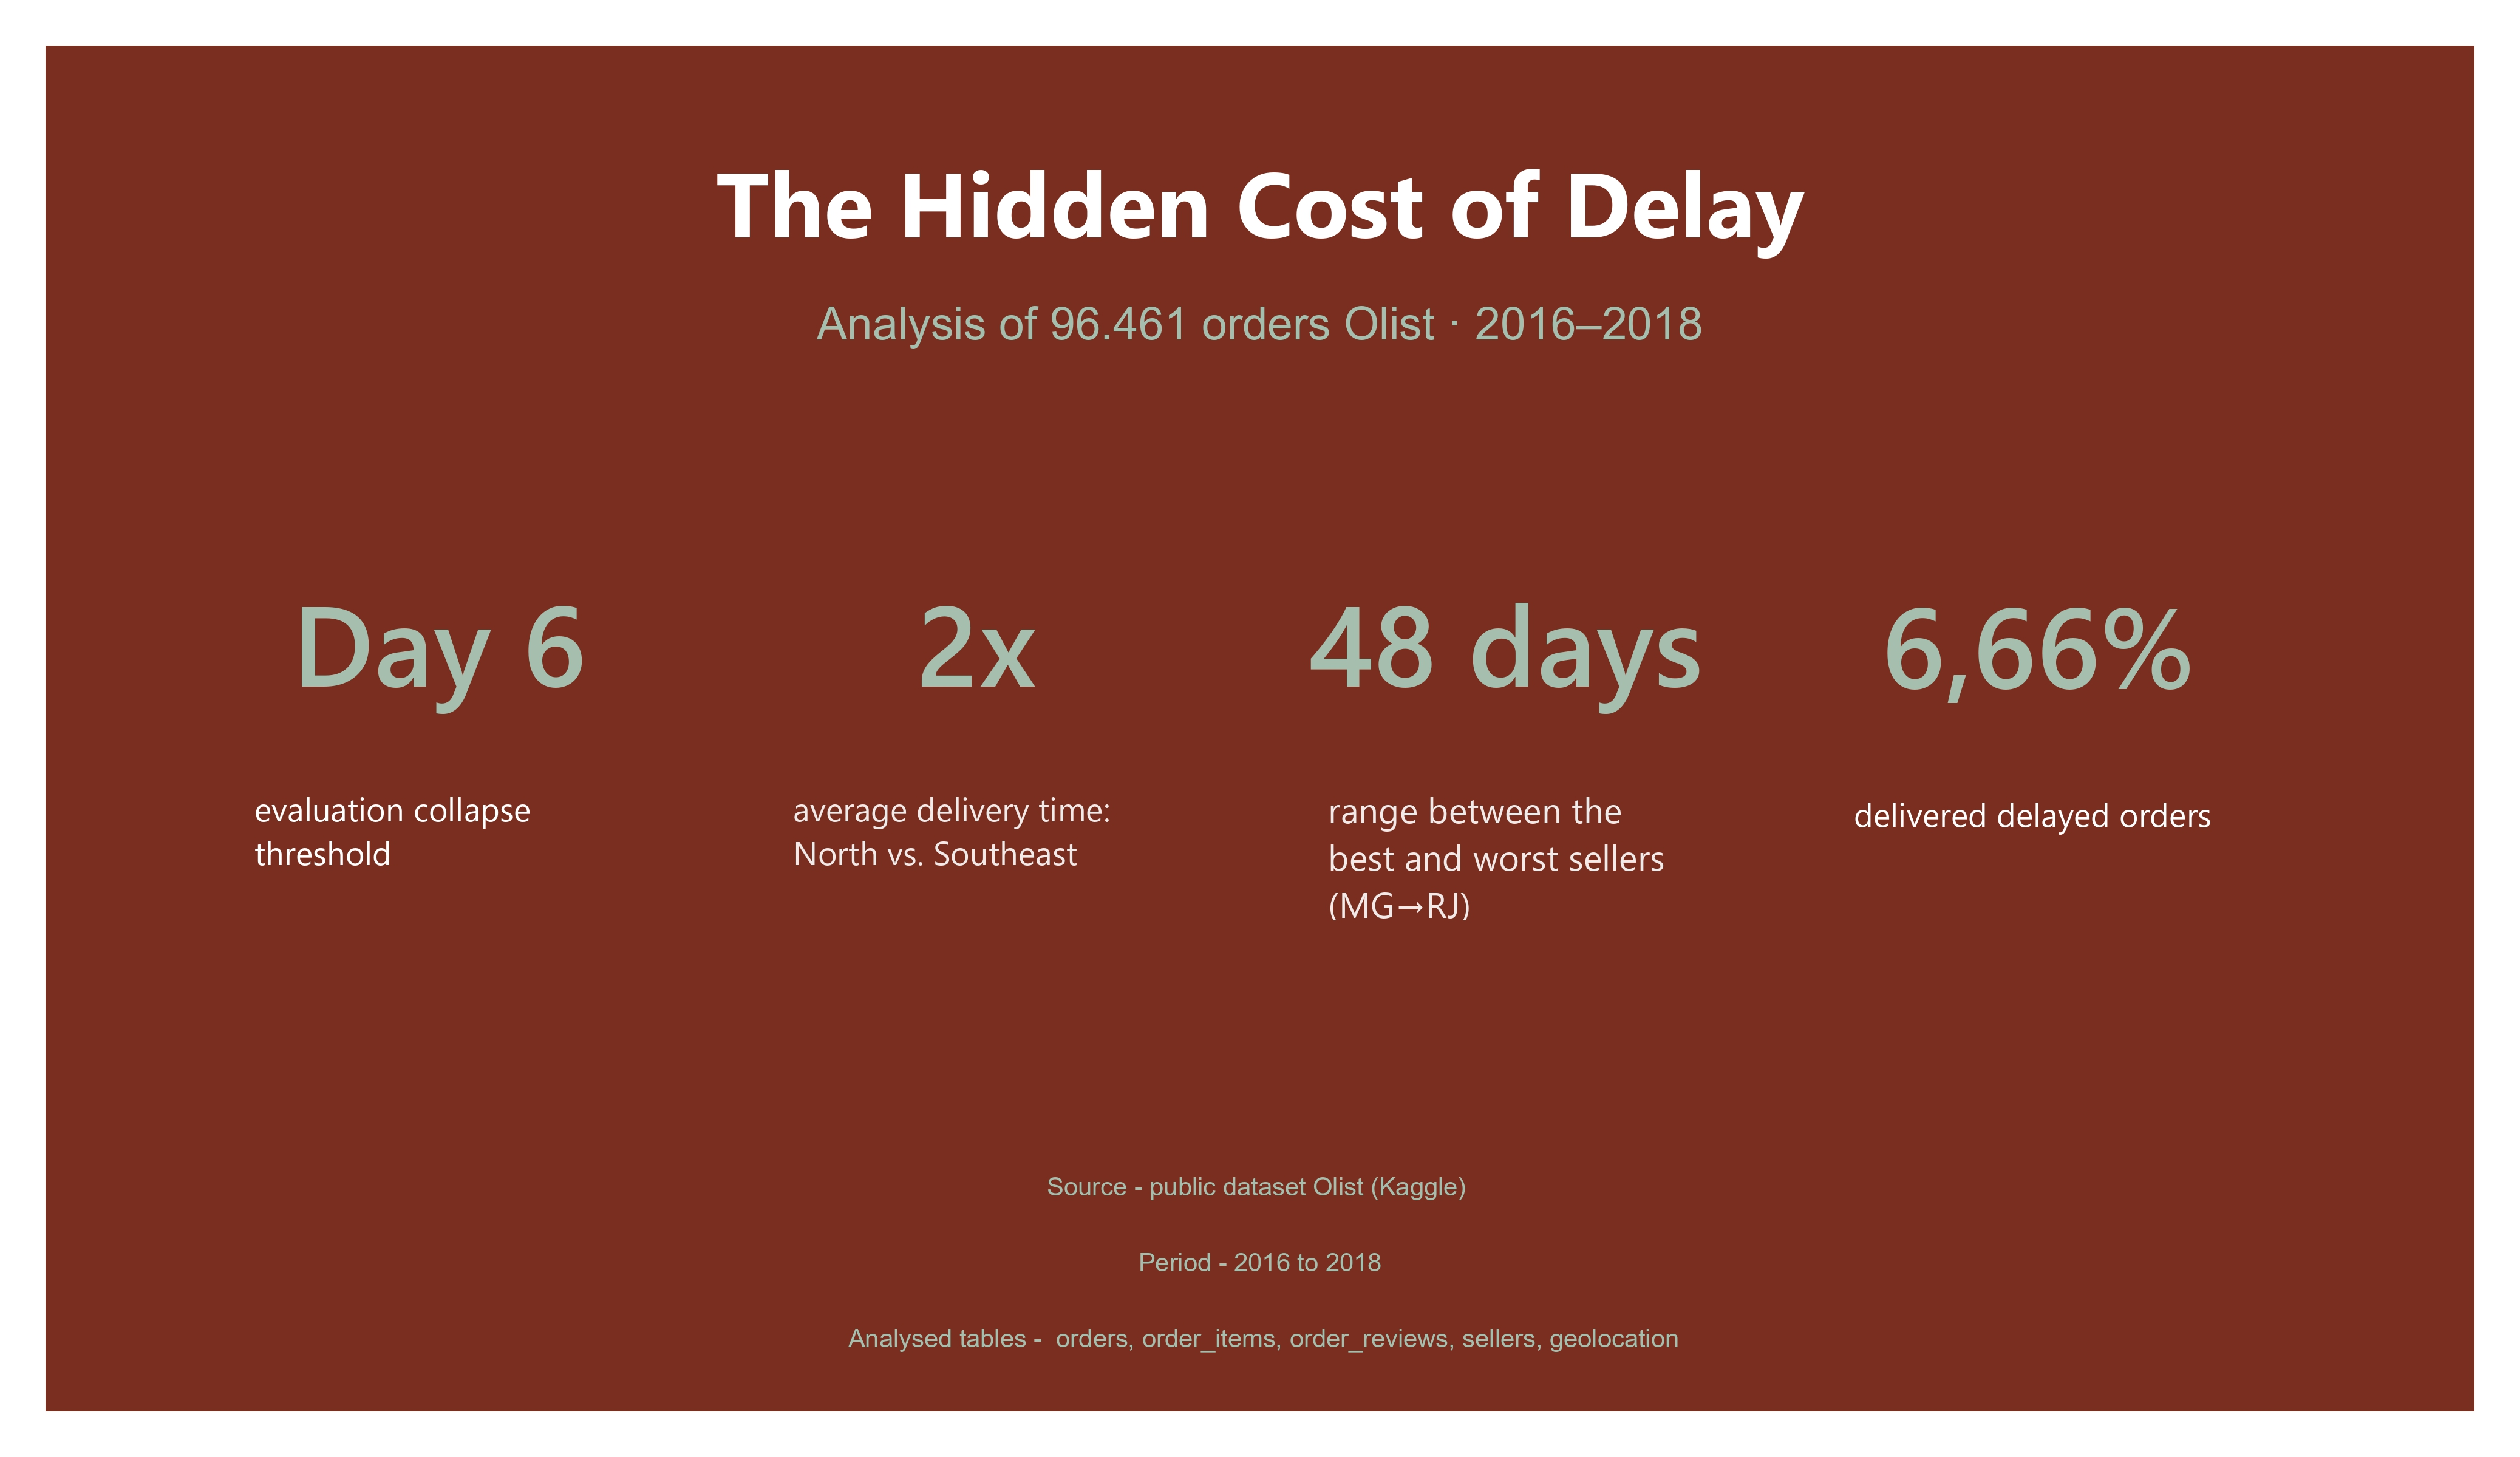

What the dashboard file says about the page in this screenshot:
{"tool":"powerbi","page":{"name":"Executive Summary","canvas":[1280,720],"ordinal":0},"visuals":[{"type":"textbox","box":[324.6,23.6,630.2,164.9],"z":0},{"type":"cardVisual","fields":{"Data":["q1_satisfaction.pct_delayed"]},"box":[911.3,240.7,277.3,251.3],"z":1000},{"type":"cardVisual","fields":{"Data":["q1_satisfaction.threshold_collapse"]},"box":[68.7,240.8,277.5,249.3],"z":2000},{"type":"cardVisual","fields":{"Data":["q3_logistic.ratio_north_southeast"]},"box":[353.1,240.8,275.5,249.3],"z":3000},{"type":"cardVisual","fields":{"Data":["seller_performance.seller_amplitude"]},"box":[634.7,240.7,269.3,249.3],"z":4000},{"type":"textbox","box":[402.7,584.7,474.7,135.3],"z":5000}]}

Visuals, with their boxes on the page's 1280x720 design canvas (x1, y1, x2, y2). These are canvas units, not pixel positions in the 2520x1457 screenshot, which may show the page scaled, cropped or inside an application window:
textbox: box=[325, 24, 955, 188]
cardVisual - q1_satisfaction.pct_delayed: box=[911, 241, 1189, 492]
cardVisual - q1_satisfaction.threshold_collapse: box=[69, 241, 346, 490]
cardVisual - q3_logistic.ratio_north_southeast: box=[353, 241, 629, 490]
cardVisual - seller_performance.seller_amplitude: box=[635, 241, 904, 490]
textbox: box=[403, 585, 877, 720]
